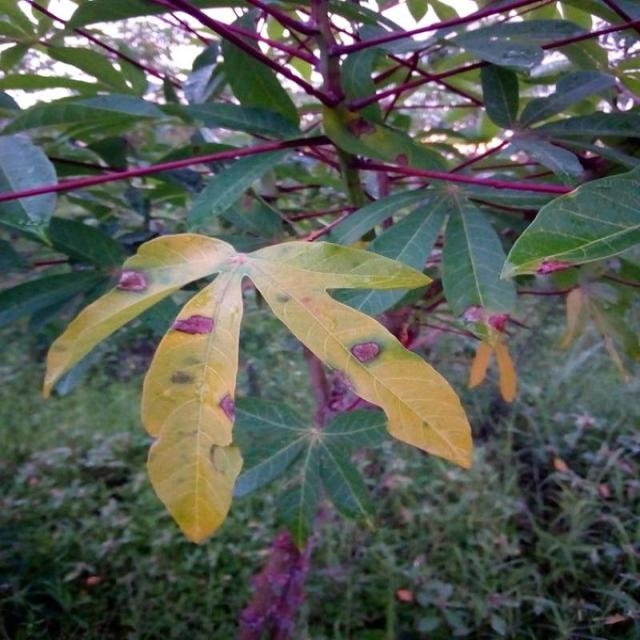cassava leaf: (43, 229, 474, 545)
